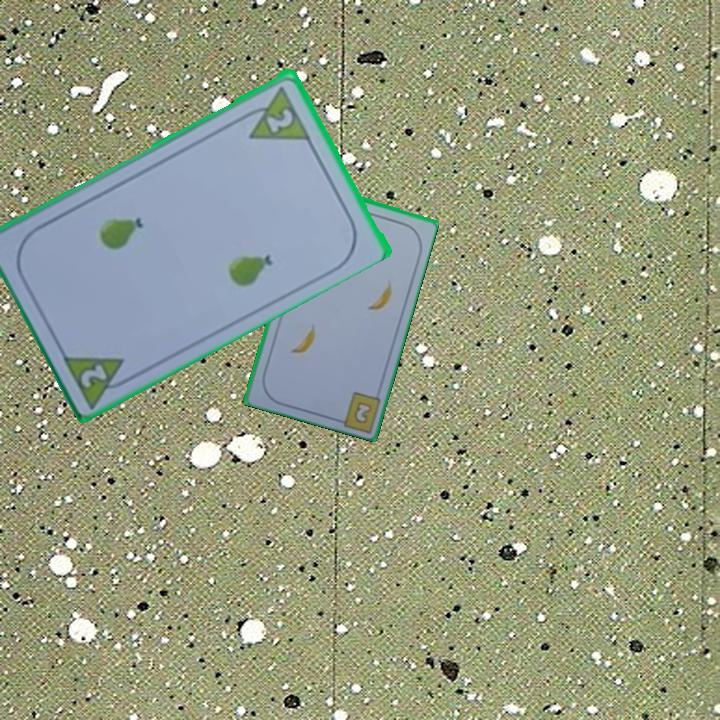2b: (352, 400, 372, 424)
2p: (236, 81, 312, 143), (77, 359, 111, 390)
